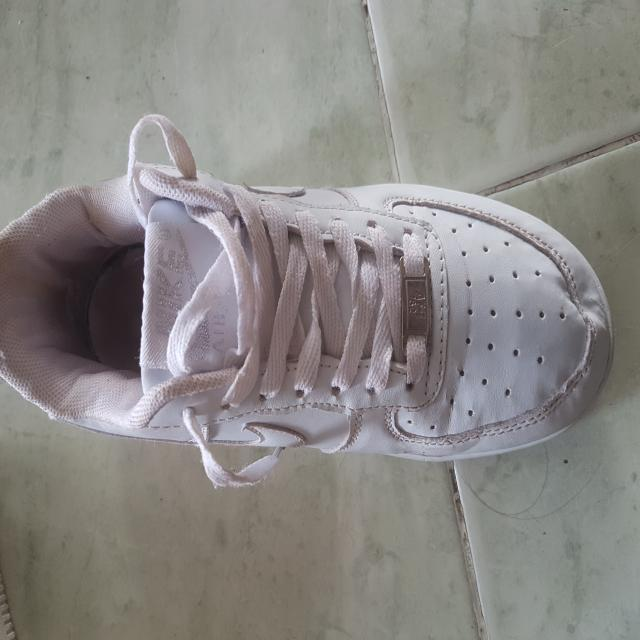nike fake air force: (0, 168, 618, 450)
